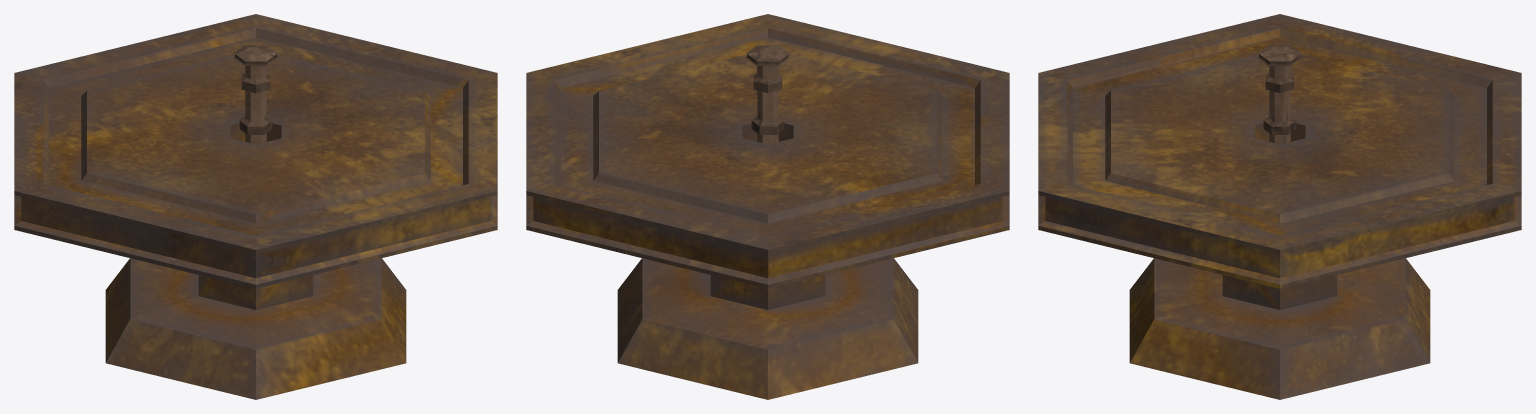
3 views of the same model, side by side, from view 1: azimuth 30°, elevation 25°; view 2: azimuth 150°, elevation 25°; view 3: azimuth 270°, elevation 25° (orthographic).
Visible parts, largest first — view 1: Cylinder.003; view 2: Cylinder.003; view 3: Cylinder.003.
Boxes of the visible parts, x1,y1,x2,y2 form: Cylinder.003: (14,14,497,399); Cylinder.003: (526,14,1009,399); Cylinder.003: (1038,14,1521,399).
Size of the model in its own units: 258 by 140 by 223.
